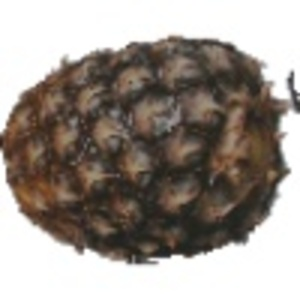abacaxi: (1, 31, 283, 258)
